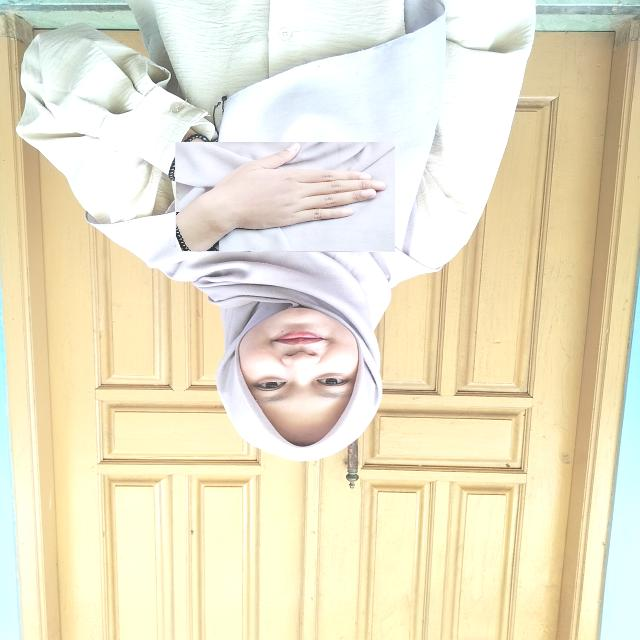tolong: (175, 142, 395, 252)
